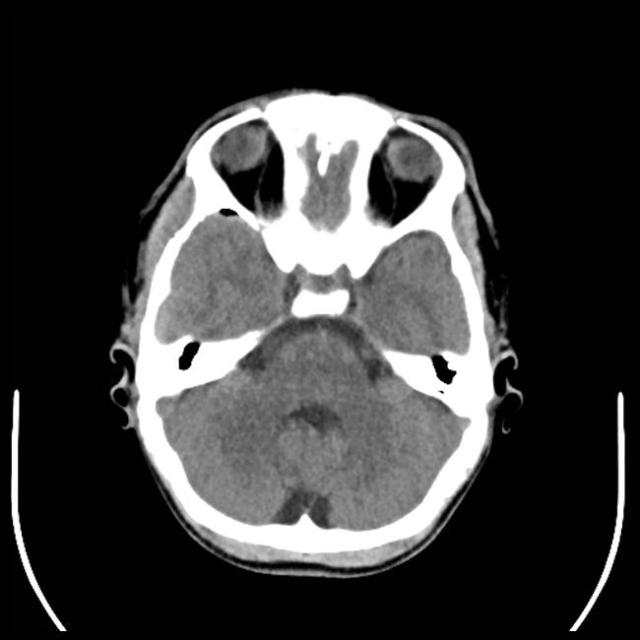lesion: (104, 85, 527, 579)
